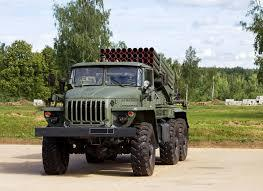MIL_SAM_TEL: (36, 47, 190, 177)
